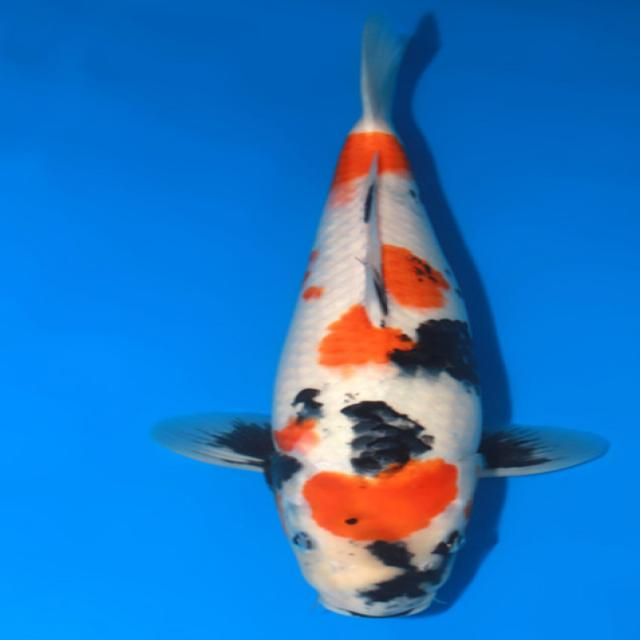Showa: (149, 11, 609, 618)
